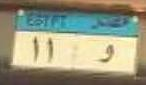1: (30, 35, 41, 65), (45, 38, 55, 65)
waw: (94, 42, 115, 66)
